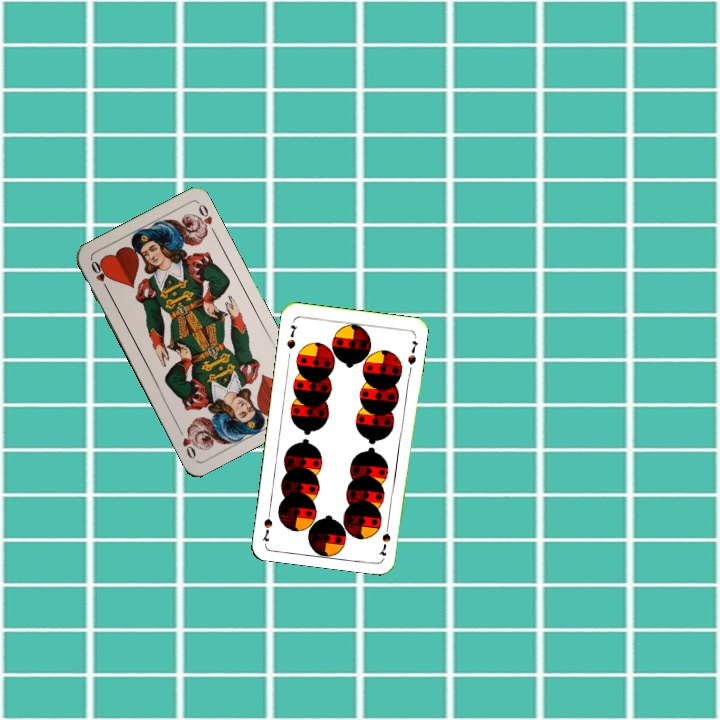HO: (87, 257, 112, 294)
S7: (375, 519, 393, 558), (283, 321, 300, 351)
